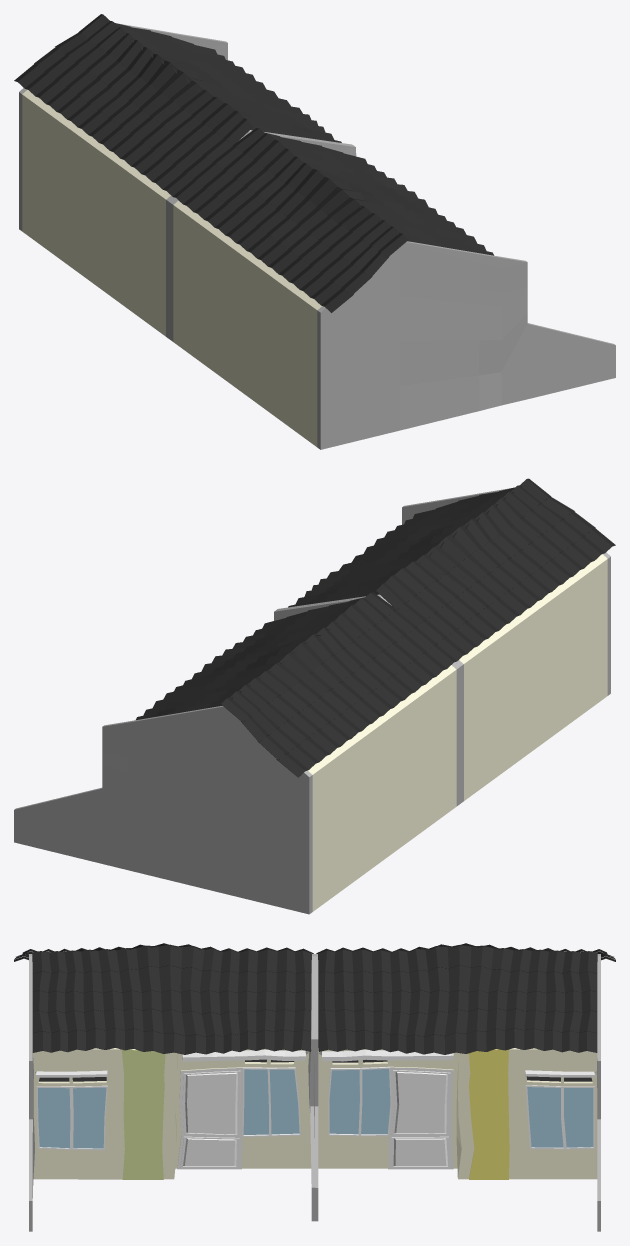
Rendered from rumah perumahan 3.fbx.
3 views of the same model, one above another, from view 1: azimuth 30°, elevation 25°; view 2: azimuth 150°, elevation 25°; view 3: azimuth 270°, elevation 25° (orthographic). The views are drawn at different scales.
Visible parts, largest first — view 1: Cube.002, Cube.001, Cube.003, Cube; view 2: Cube, Cube.003, Cube.001, Cube.002; view 3: Cube, Cube.002, Cube.003, Cube.001.
Part boxes in pixels (left/top/right/bottom): Cube.002: left=169, top=132, right=615, bottom=449; Cube.001: left=172, top=128, right=493, bottom=312; Cube.003: left=14, top=14, right=341, bottom=197; Cube: left=19, top=23, right=353, bottom=339; Cube: left=14, top=597, right=460, bottom=914; Cube.003: left=136, top=592, right=457, bottom=777; Cube.001: left=288, top=478, right=615, bottom=660; Cube.002: left=276, top=488, right=610, bottom=803; Cube: left=314, top=954, right=600, bottom=1231; Cube.002: left=29, top=954, right=315, bottom=1231; Cube.003: left=316, top=943, right=615, bottom=1054; Cube.001: left=14, top=943, right=313, bottom=1054.
Size of the model in its own units: 908 by 587 by 1689.
